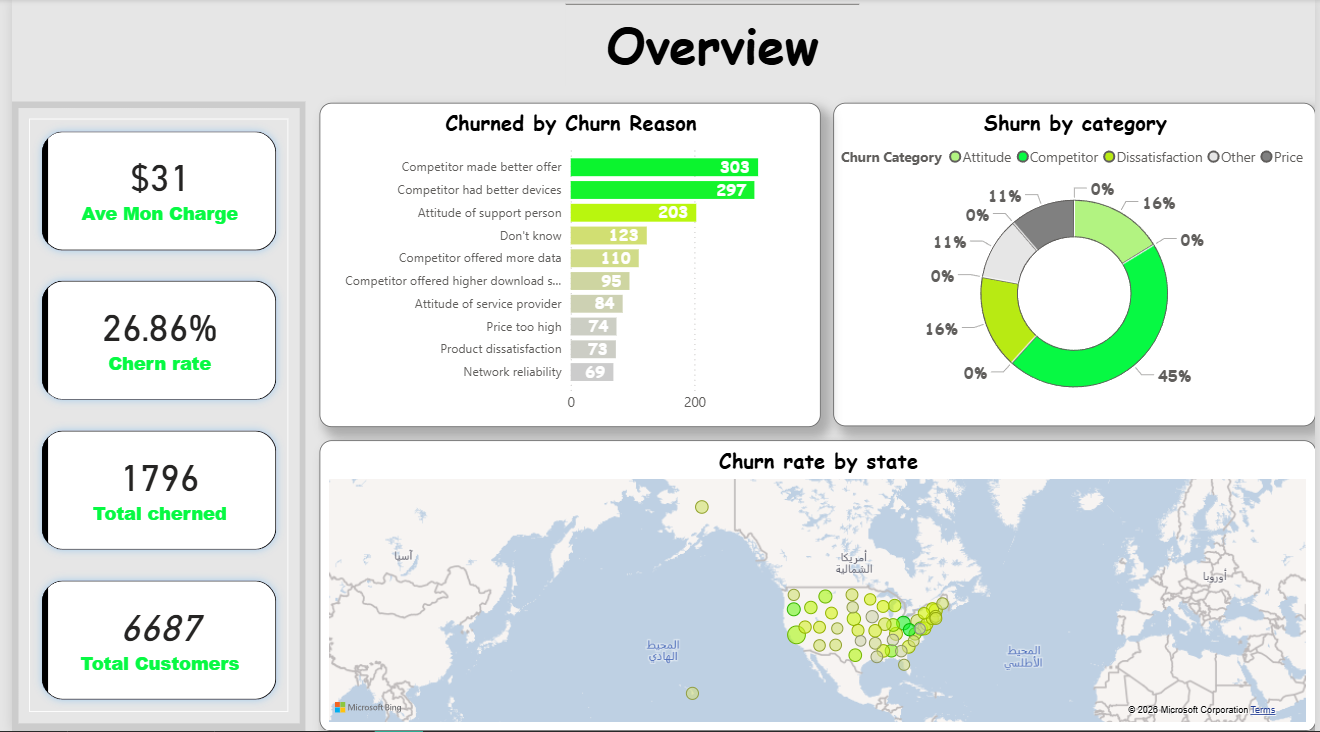

This screenshot's page, from the dashboard's own definition file:
{"tool":"powerbi","page":{"name":"Overview","canvas":[1280,720],"ordinal":0},"visuals":[{"type":"cardVisual","fields":{"Data":["_Mesusres.Ave Mon Charge","_Mesusres.Chern rate","_Mesusres.Total cherned","_Mesusres.Total Customers"]},"box":[0,100.9,288,619.1],"z":0},{"type":"textbox","box":[544,0,288,84.9],"z":1000},{"type":"donutChart","title":"Shurn by category","fields":{"Y":["_Mesusres.Chern rate","_Mesusres.Total cherned"],"Category":["Databel - Data.Churn Category"]},"box":[806.2,102.2,473.8,317.5],"z":2000},{"type":"clusteredBarChart","title":"Churned by Churn Reason","fields":{"Y":["_Mesusres.Total cherned"],"Category":["Databel - Data.Churn Reason"]},"box":[301.5,102.2,492.3,318.8],"z":3000},{"type":"map","title":"Churn rate by state","fields":{"Category":["Databel - Data.State"],"Size":["_Mesusres.Chern rate"]},"box":[301.5,433.2,978.5,286.8],"z":4000}]}

Visuals, with their boxes in screenshot pixels (x1, y1, x2, y2), scaled from the page's 1280x720 canvas onto the 1320x732 screenshot:
cardVisual - _Mesusres.Ave Mon Charge x _Mesusres.Chern rate: bbox(0, 103, 297, 731)
textbox: bbox(561, 0, 858, 86)
"Shurn by category" donutChart: bbox(831, 104, 1319, 427)
"Churned by Churn Reason" clusteredBarChart: bbox(311, 104, 819, 428)
"Churn rate by state" map: bbox(311, 440, 1319, 731)
